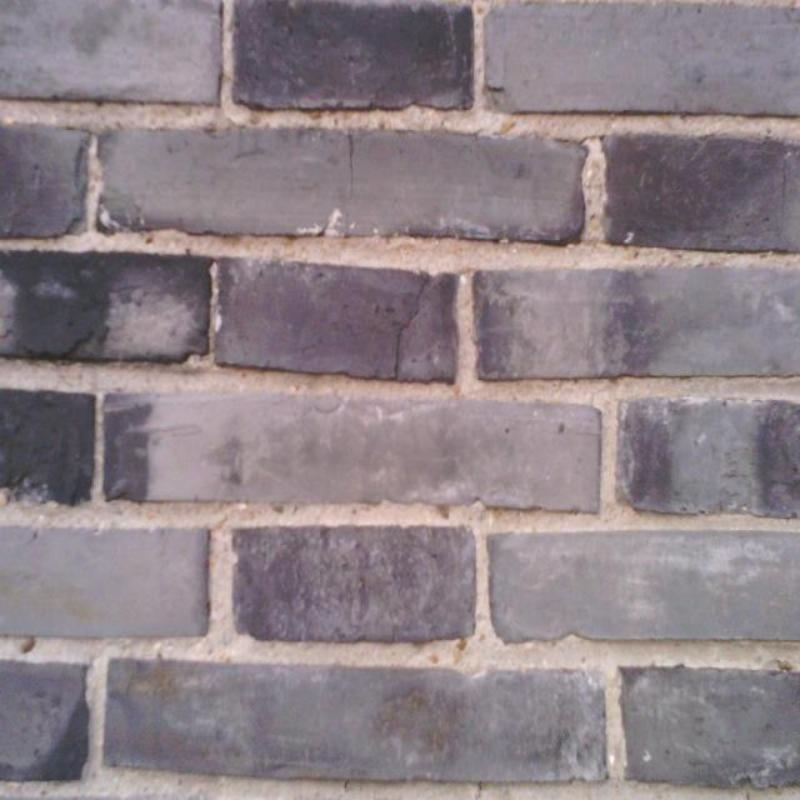pothole: (394, 274, 430, 380), (348, 131, 353, 196)
